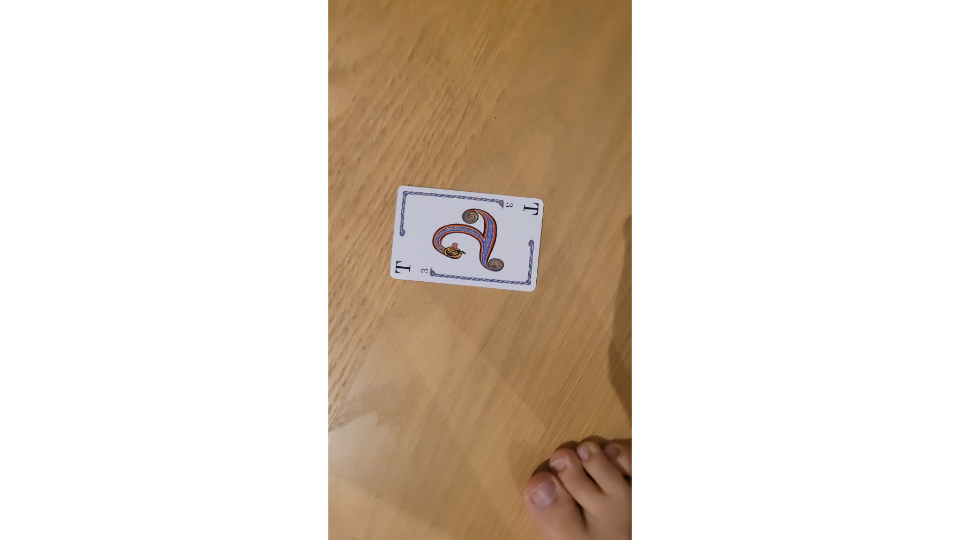T: (385, 181, 546, 294)
